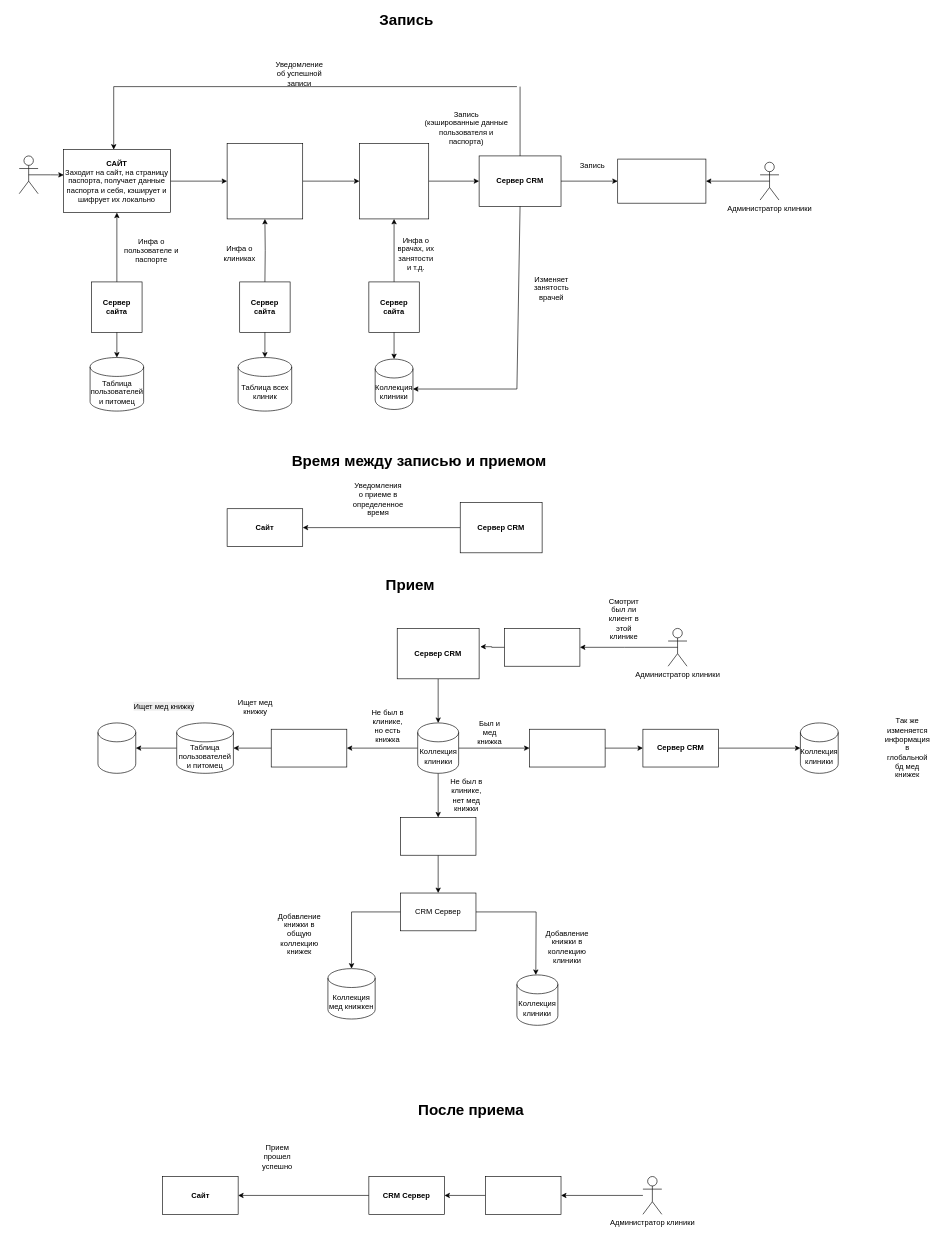
This 941x1238 diagram has some shape labels left out. The shapes that lost their labels are listed below. From the top down, each one's box as (x1, y1, x2, y2) in pixels, then its label:
(19, 155, 38, 194): Владелец
(226, 143, 303, 219): САЙТ Получает данные о клиниках и в ыбирает клиники
(359, 143, 429, 219): САЙТ Выбирает врачей, время и животное
(617, 158, 706, 203): CRM Видит запись
(504, 628, 580, 666): CRM
(97, 722, 136, 773): Коллекция мед книжек
(271, 729, 347, 767): CRM сервер Ищет мед книжку
(529, 729, 605, 767): CRM Заносит информацию о приему
(400, 817, 476, 855): CRM Админ заполняет книжку
(485, 1176, 561, 1214): CRM Подтверждает прием или нет
